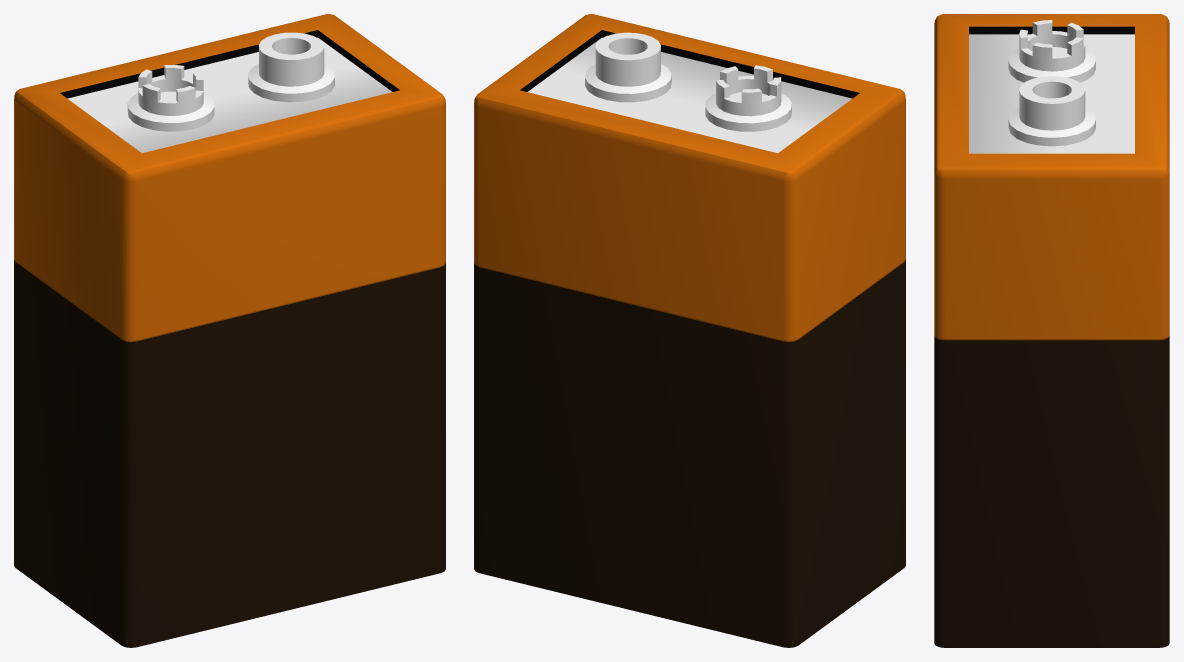
File: powerpack2.fbx
3 renders of one model, left to right at view 1: azimuth 30°, elevation 25°; view 2: azimuth 150°, elevation 25°; view 3: azimuth 270°, elevation 25°, orthographic.
Visible parts, largest first — view 1: polySurface1; view 2: polySurface1; view 3: polySurface1.
Part boxes in pixels (box(x1,y1,x2,y2)): polySurface1: box(14, 14, 445, 647); polySurface1: box(474, 14, 905, 647); polySurface1: box(934, 14, 1169, 647).
Size of the model in its own units: 9.11 by 13.64 by 5.72.
Materials: 2 (2 with a texture image).
